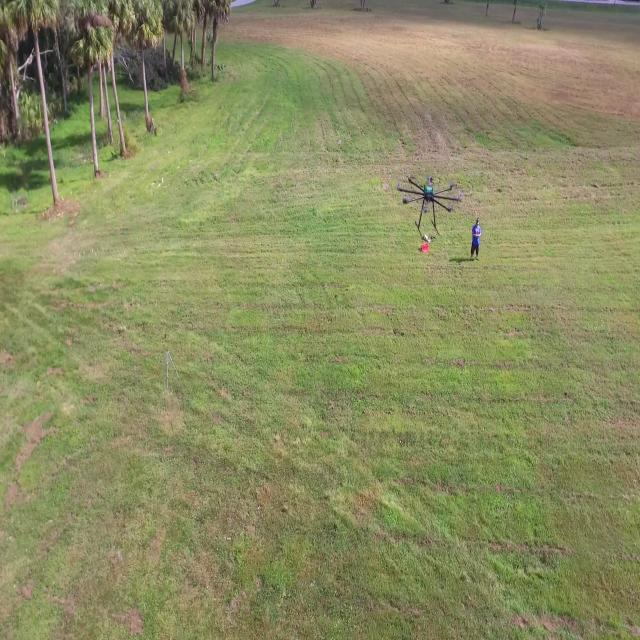drone: (380, 140, 460, 260)
